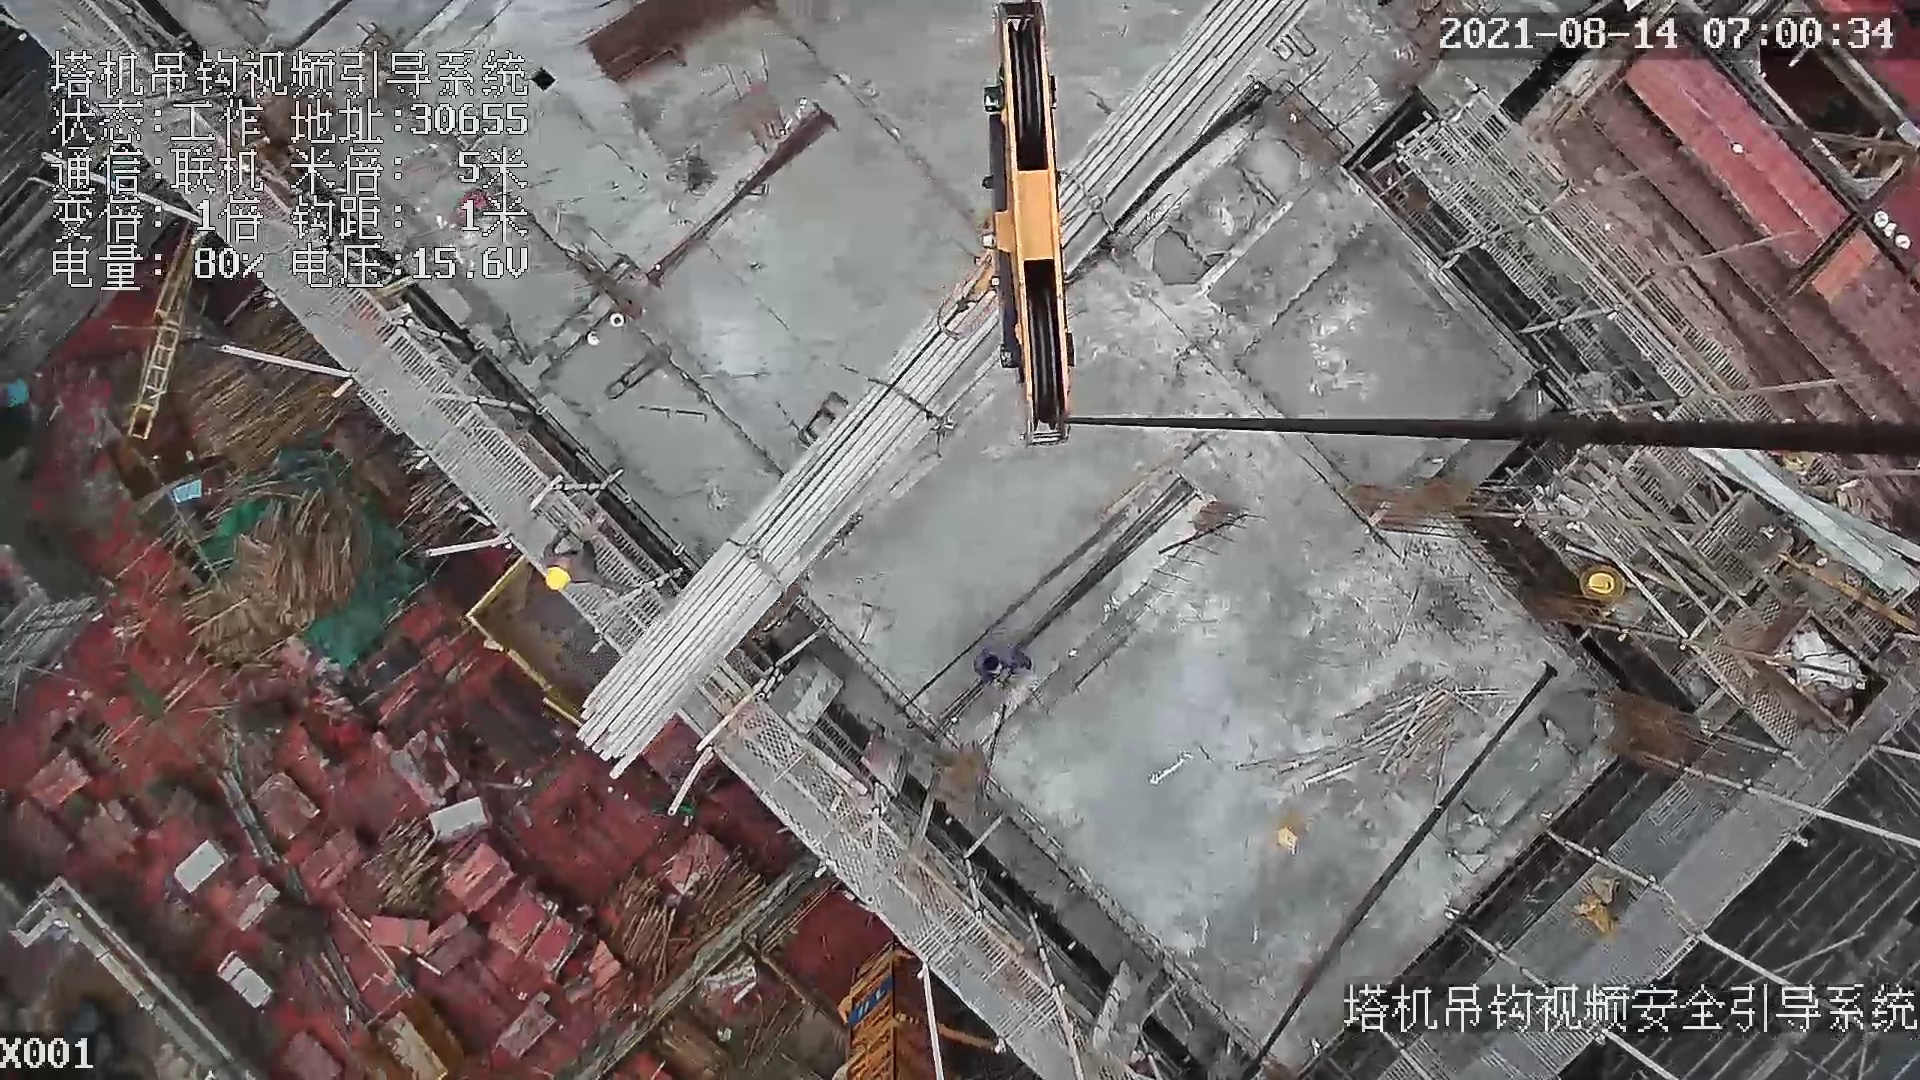helmet: (538, 555, 572, 593)
hook: (929, 1, 1087, 455)
person: (533, 524, 640, 596), (979, 637, 1029, 680)
